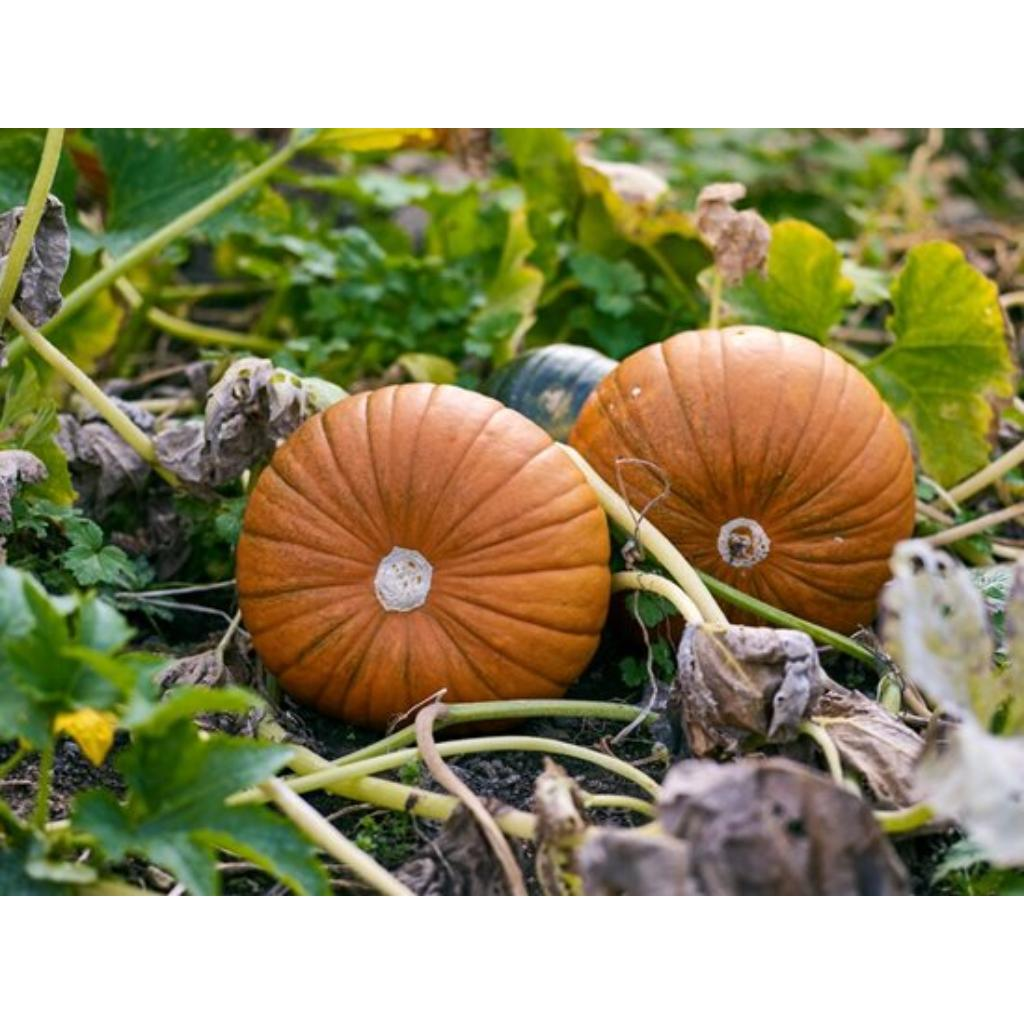pumpkin: (238, 386, 608, 727), (574, 326, 914, 631)
